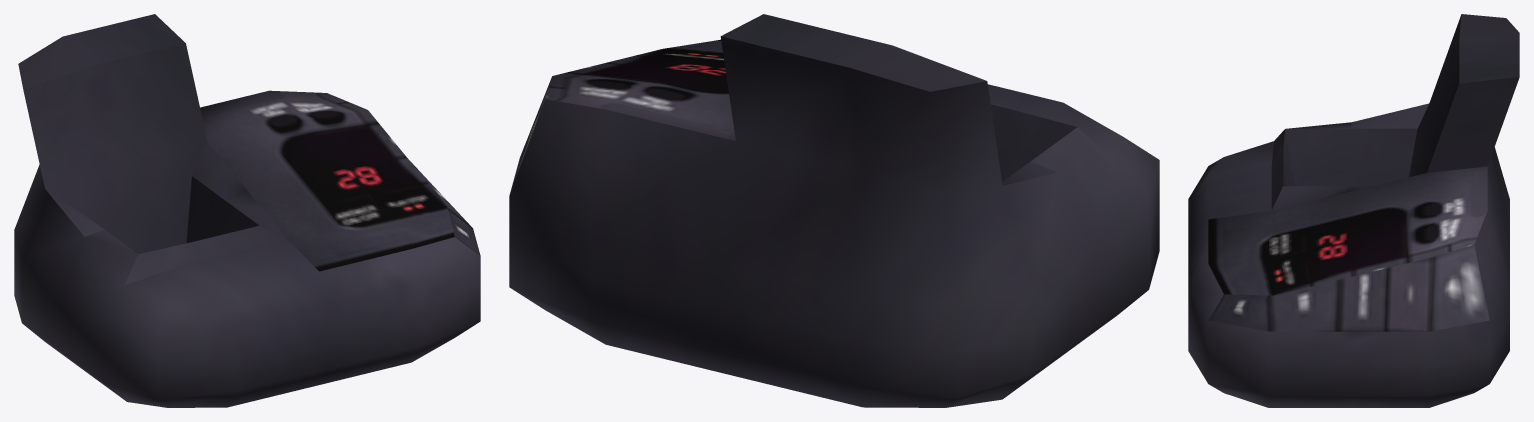
The model's file is MobilePhoneDock.FBX.
The picture shows the model from 3 angles, left to right: view 1: azimuth 30°, elevation 25°; view 2: azimuth 150°, elevation 25°; view 3: azimuth 270°, elevation 25°; orthographic projection. The views are drawn at different scales.
Visible parts, largest first — view 1: MobilePhoneDock; view 2: MobilePhoneDock; view 3: MobilePhoneDock.
Part boxes in pixels (x1=…): MobilePhoneDock: x1=14, y1=14, x2=480, y2=407; MobilePhoneDock: x1=509, y1=14, x2=1159, y2=407; MobilePhoneDock: x1=1188, y1=14, x2=1519, y2=407.
Bounding box in the file's own units: 7.98 × 5.46 × 6.33.
